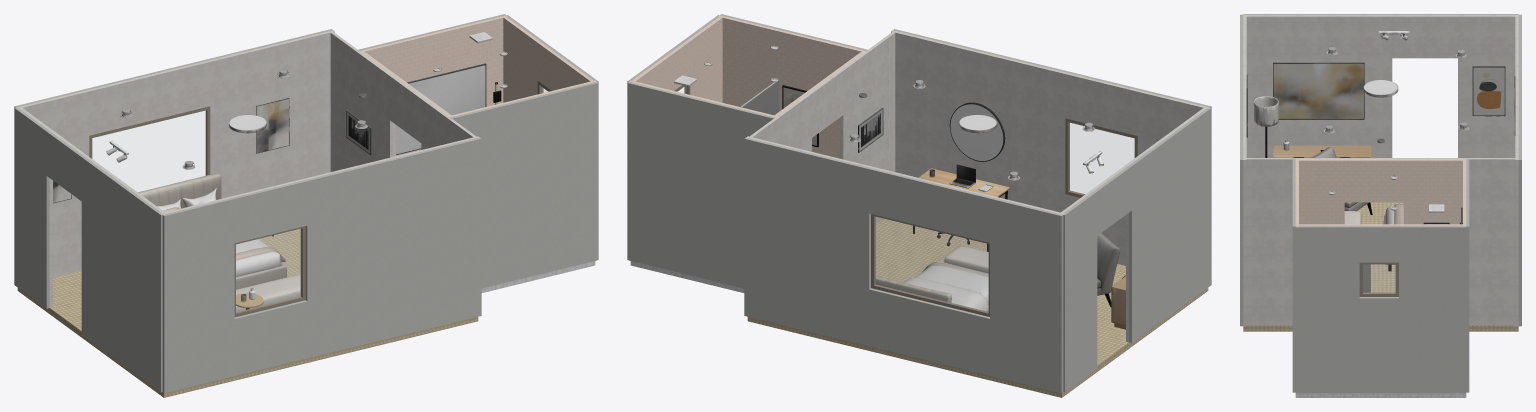
Rendered from scene_web.glb.
3 renders of one model, left to right at view 1: azimuth 30°, elevation 25°; view 2: azimuth 150°, elevation 25°; view 3: azimuth 270°, elevation 25°, orthographic. The views are drawn at different scales.
Parts seen in each view (by area): view 1: geometry_0.003, geometry_0, geometry_0.006, geometry_0.054, geometry_0.004, glass, geometry_0.051, Mesh_0, glass.001, geometry_0.055, geometry_0.016, geometry_0.062 (+10 smaller); view 2: geometry_0.001, geometry_0.002, geometry_0.006, geometry_0.052, geometry_0.004, geometry_0.053, glass, Mesh_0, geometry_0.055, geometry_0.016, glass.001, geometry_0.019 (+13 smaller); view 3: geometry_0.056, geometry_0.005, geometry_0.004, geometry_0.057, geometry_0.023, Mesh_0, geometry_0.024, geometry_0, geometry_0.002, geometry_0.001, geometry_0.003, geometry_0.011 (+13 smaller).
Part boxes in pixels (x1=…): geometry_0.003: x1=162, y1=137, x2=481, y2=393; geometry_0: x1=16, y1=30, x2=334, y2=277; geometry_0.006: x1=14, y1=107, x2=162, y2=392; geometry_0.054: x1=449, y1=81, x2=598, y2=288; geometry_0.004: x1=330, y1=32, x2=475, y2=171; glass: x1=92, y1=111, x2=205, y2=191; geometry_0.051: x1=358, y1=15, x2=507, y2=155; Mesh_0: x1=17, y1=228, x2=478, y2=397; glass.001: x1=236, y1=229, x2=300, y2=312; geometry_0.055: x1=503, y1=17, x2=594, y2=102; geometry_0.016: x1=138, y1=173, x2=286, y2=289; geometry_0.062: x1=396, y1=63, x2=486, y2=154; geometry_0.001: x1=744, y1=137, x2=1063, y2=393; geometry_0.002: x1=891, y1=30, x2=1209, y2=265; geometry_0.006: x1=1063, y1=107, x2=1211, y2=392; geometry_0.052: x1=627, y1=81, x2=775, y2=288; geometry_0.004: x1=750, y1=32, x2=895, y2=223; geometry_0.053: x1=718, y1=15, x2=865, y2=157; glass: x1=875, y1=217, x2=988, y2=311; Mesh_0: x1=747, y1=218, x2=1208, y2=397; geometry_0.055: x1=631, y1=16, x2=723, y2=102; geometry_0.016: x1=875, y1=261, x2=988, y2=311; glass.001: x1=1069, y1=123, x2=1134, y2=194; geometry_0.019: x1=949, y1=102, x2=1005, y2=161; geometry_0.056: x1=1295, y1=225, x2=1466, y2=393; geometry_0.005: x1=1246, y1=15, x2=1515, y2=157; geometry_0.004: x1=1246, y1=158, x2=1515, y2=325; geometry_0.057: x1=1297, y1=159, x2=1463, y2=224; geometry_0.023: x1=1273, y1=62, x2=1364, y2=119; Mesh_0: x1=1243, y1=202, x2=1518, y2=331; geometry_0.024: x1=1472, y1=66, x2=1505, y2=116; geometry_0: x1=1515, y1=14, x2=1518, y2=326; geometry_0.002: x1=1243, y1=14, x2=1246, y2=326; geometry_0.001: x1=1518, y1=14, x2=1521, y2=326; geometry_0.003: x1=1240, y1=14, x2=1243, y2=326; geometry_0.011: x1=1273, y1=145, x2=1370, y2=157.
Bounding box in the file's own units: 7.7 × 2.9 × 4.3.
52 materials, 48 textured.
